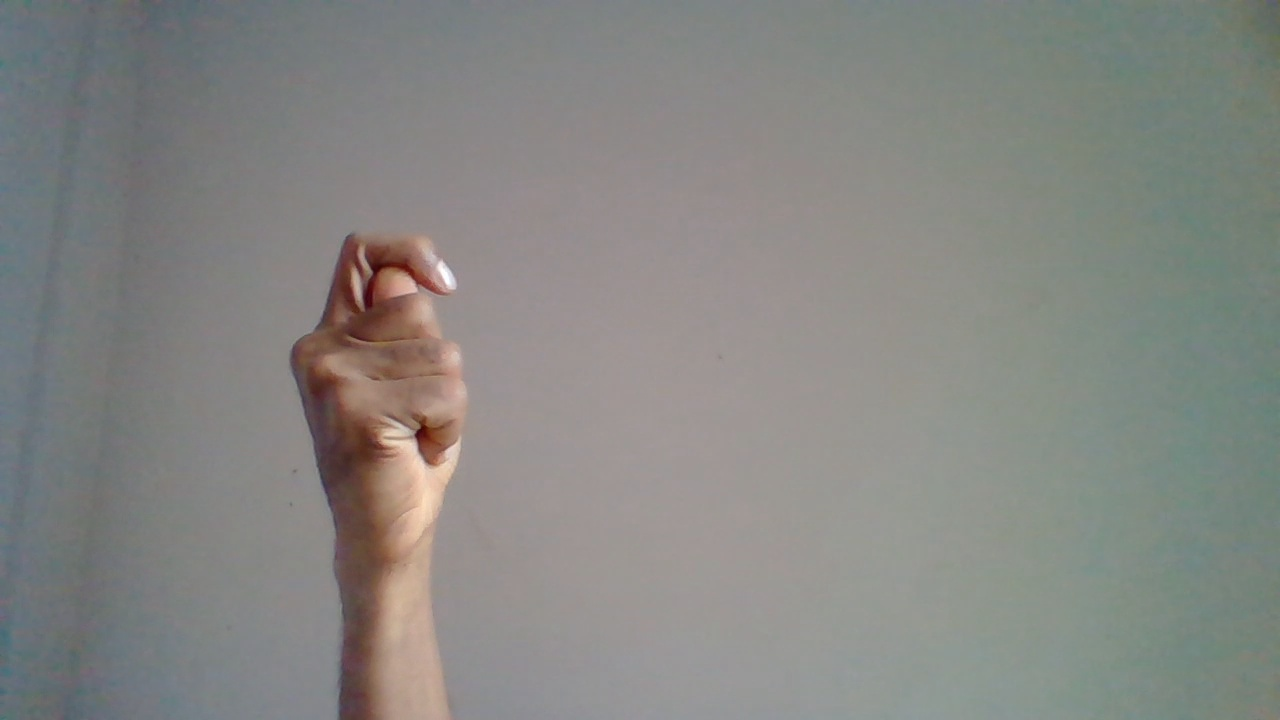che: (286, 227, 472, 705)
